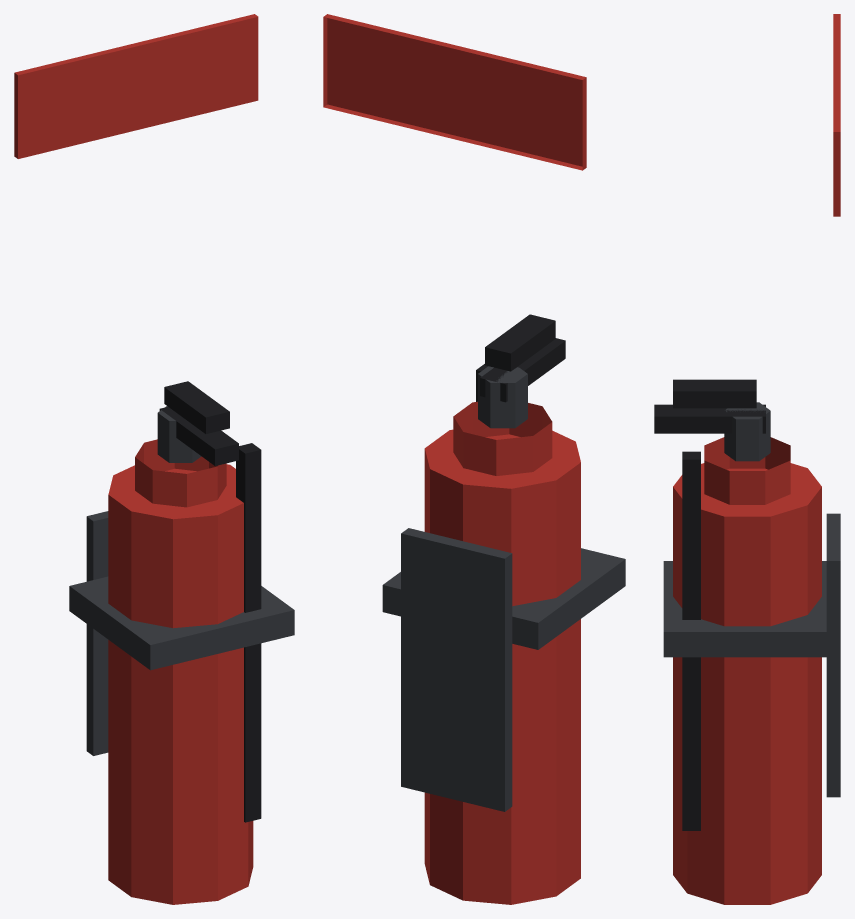
The model's file is dc_extinguisher.glb.
3 renders of one model, left to right at view 1: azimuth 30°, elevation 25°; view 2: azimuth 150°, elevation 25°; view 3: azimuth 270°, elevation 25°, orthographic. The views are drawn at different scales.
Parts seen in each view (by area): view 1: dc_extinguisher; view 2: dc_extinguisher; view 3: dc_extinguisher.
Boxes of the visible parts, left/top/right/bottom form: dc_extinguisher: left=14, top=14, right=294, bottom=904; dc_extinguisher: left=323, top=14, right=625, bottom=904; dc_extinguisher: left=654, top=14, right=840, bottom=904.
Size of the model in its own units: 0.3 by 0.95 by 0.2.
